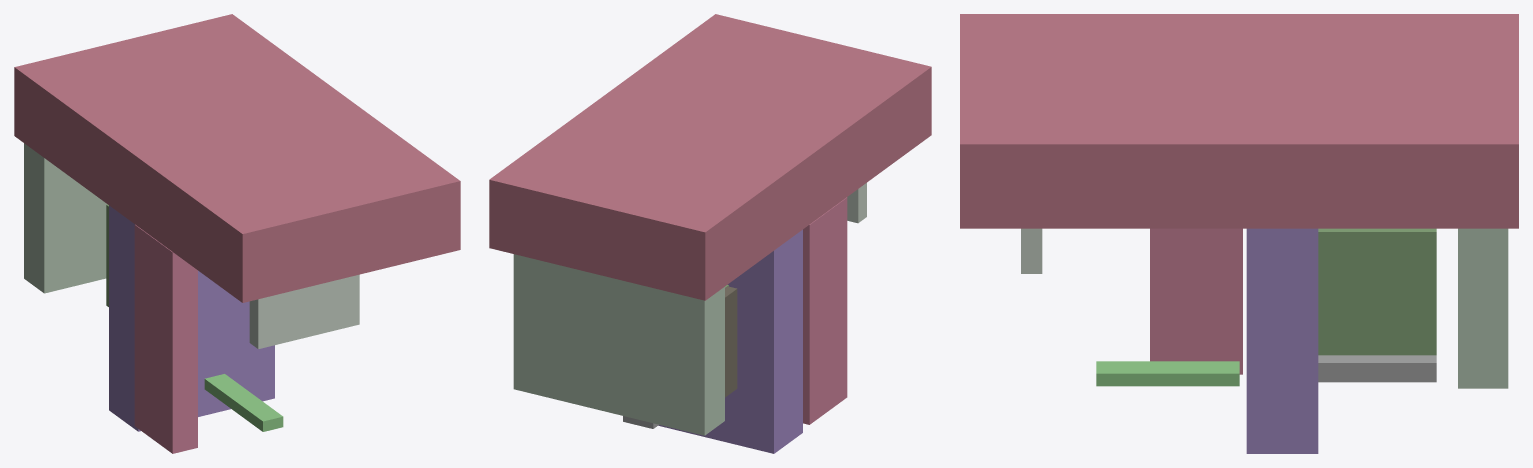
Rendered from 199532_pred.glb.
3 renders of one model, left to right at view 1: azimuth 30°, elevation 25°; view 2: azimuth 150°, elevation 25°; view 3: azimuth 270°, elevation 25°, orthographic. The views are drawn at different scales.
Visible parts, largest first — view 1: world; view 2: world; view 3: world.
Part boxes in pixels (left/top/right/bottom): world: left=14, top=14, right=460, bottom=453; world: left=489, top=14, right=931, bottom=453; world: left=960, top=14, right=1518, bottom=453.
Size of the model in its own units: 4.3 by 5.4 by 7.8.
